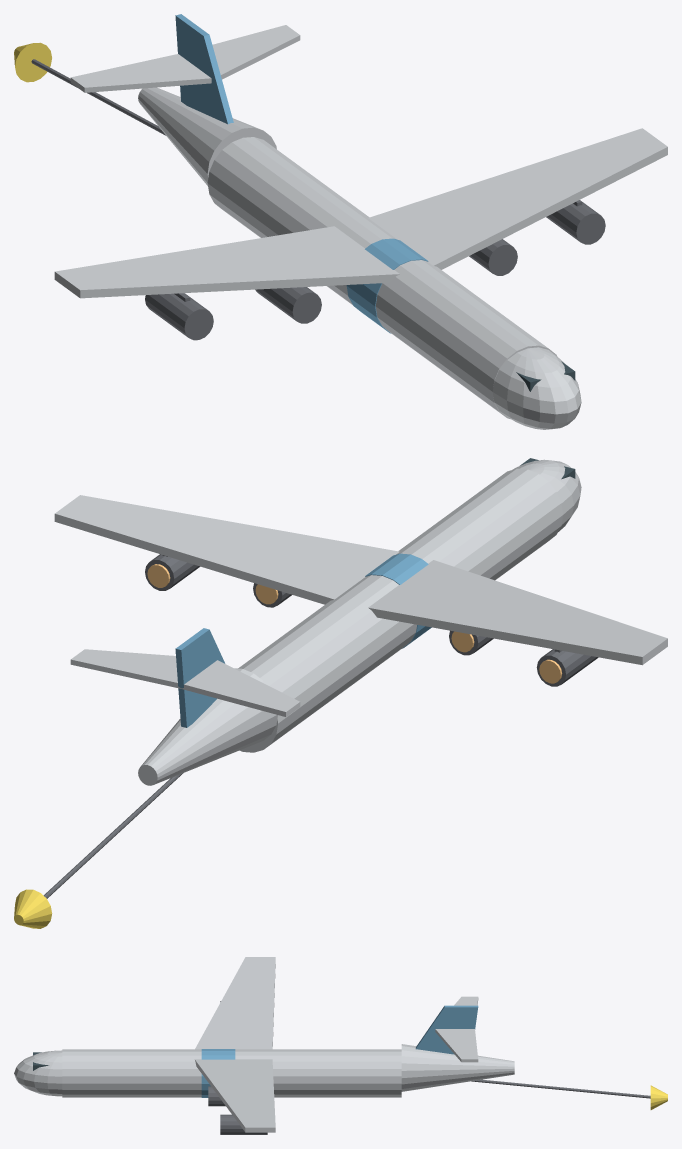
Rendered from NPC_Tanker.fbx.
3 renders of one model, top to bottom at view 1: azimuth 30°, elevation 25°; view 2: azimuth 150°, elevation 25°; view 3: azimuth 270°, elevation 25°, orthographic. The views are drawn at different scales.
Visible parts, largest first — view 1: Body.009, Trim.009, Accents.004, Drogue; view 2: Body.009, Accents.004, Trim.009, Glow.010, Drogue; view 3: Body.009, Accents.004, Trim.009, Drogue.
Part boxes in pixels (x1=…): Body.009: x1=54, y1=25, x2=667, y2=429; Trim.009: x1=31, y1=59, x2=605, y2=340; Accents.004: x1=175, y1=14, x2=428, y2=333; Drogue: x1=14, y1=42, x2=51, y2=82; Body.009: x1=54, y1=459, x2=667, y2=785; Accents.004: x1=175, y1=553, x2=431, y2=727; Trim.009: x1=43, y1=554, x2=598, y2=898; Glow.010: x1=147, y1=564, x2=562, y2=683; Drogue: x1=14, y1=889, x2=52, y2=928; Body.009: x1=14, y1=957, x2=514, y2=1132; Accents.004: x1=201, y1=1005, x2=478, y2=1097; Trim.009: x1=208, y1=1001, x2=650, y2=1134; Drogue: x1=650, y1=1085, x2=667, y2=1109.
Bounding box in the file's own units: 60 × 16.9 × 97.2.
